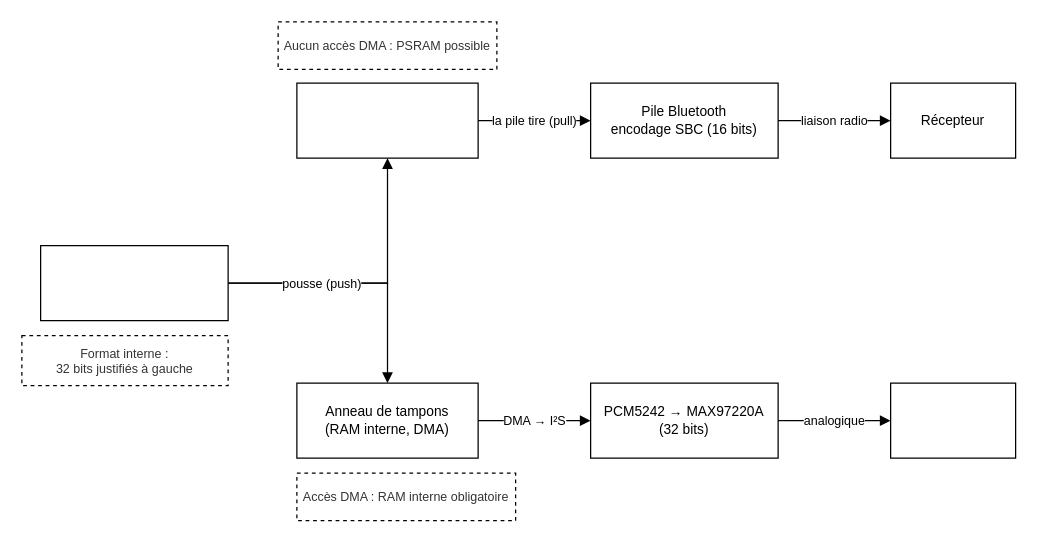
The diagram is 1038 pixels wide and 543 high, and some of its shapes have lost their labels. The shapes that lost their labels are listed below. From the top down, each one's box as (x1, y1, x2, y2) in pixels, then its label:
(296, 82, 478, 158): Tampon de découplage (PSRAM)
(39, 244, 228, 321): Pipeline (tâche audio)
(889, 382, 1016, 458): Jack 3,5 mm
